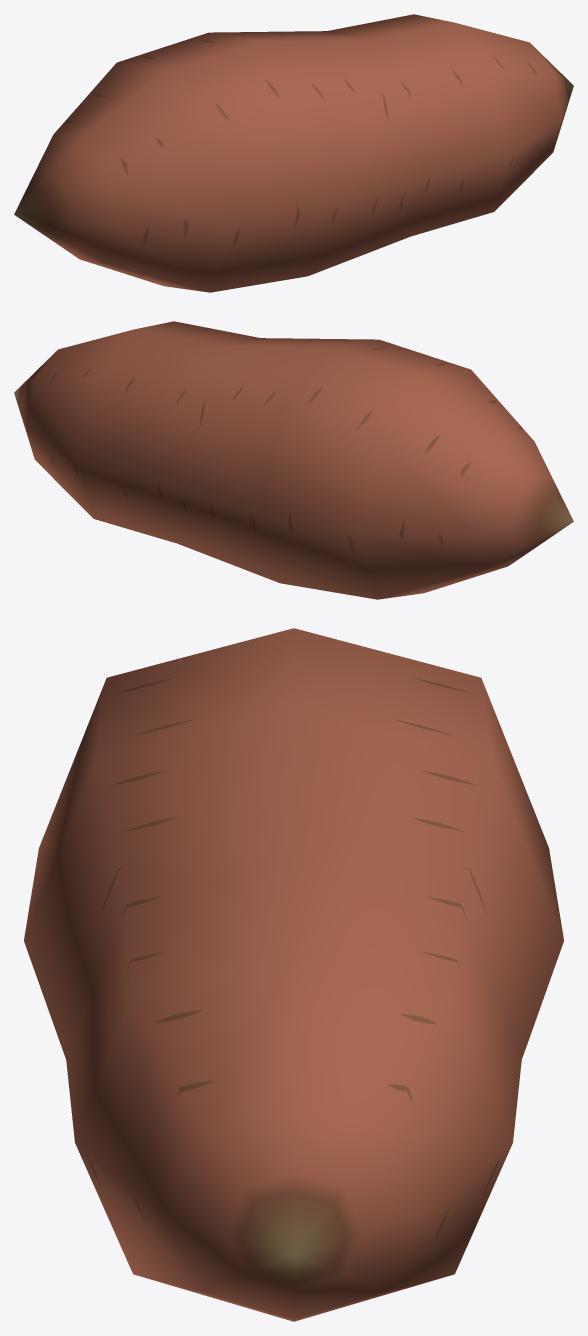
Rendered from Sweetpotato.FBX.
3 views of the same model, one above another, from view 1: azimuth 30°, elevation 25°; view 2: azimuth 150°, elevation 25°; view 3: azimuth 270°, elevation 25° (orthographic). The views are drawn at different scales.
Visible parts, largest first — view 1: Sweetpotato; view 2: Sweetpotato; view 3: Sweetpotato.
Part boxes in pixels (<box>): Sweetpotato: <box>14,14,573,292</box>; Sweetpotato: <box>14,321,573,599</box>; Sweetpotato: <box>24,628,563,1321</box>.
Bounding box in the file's own units: 14.21 × 5.5 × 5.94.
Materials: 1 (1 with a texture image).
